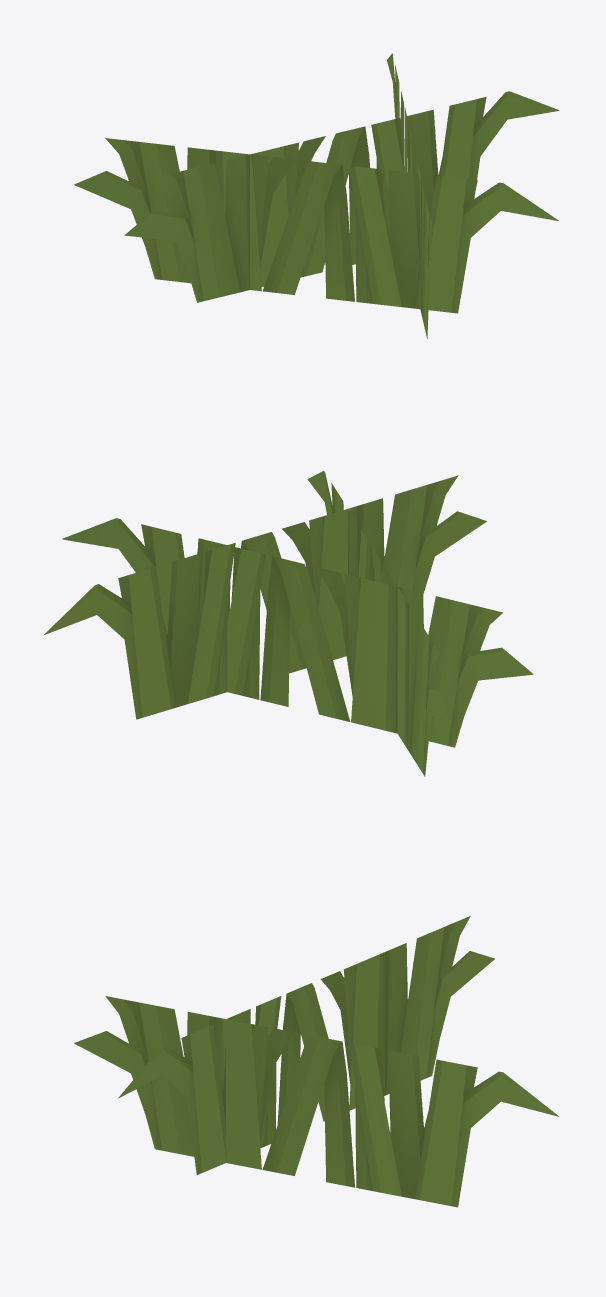
File: SM_Env_Grass_Short_Clump_01.fbx
3 views of the same model, one above another, from view 1: azimuth 30°, elevation 25°; view 2: azimuth 150°, elevation 25°; view 3: azimuth 270°, elevation 25° (orthographic). The views are drawn at different scales.
Parts seen in each view (by area): view 1: SM_Env_Grass_Short_Clump_01_LOD0; view 2: SM_Env_Grass_Short_Clump_01_LOD0; view 3: SM_Env_Grass_Short_Clump_01_LOD0.
Part boxes in pixels (x1,y1,x2,y2): SM_Env_Grass_Short_Clump_01_LOD0: (74, 53, 559, 338); SM_Env_Grass_Short_Clump_01_LOD0: (44, 471, 533, 776); SM_Env_Grass_Short_Clump_01_LOD0: (74, 916, 558, 1207).
Size of what is drawn, in the model's own units: 100 by 25 by 91.04.
